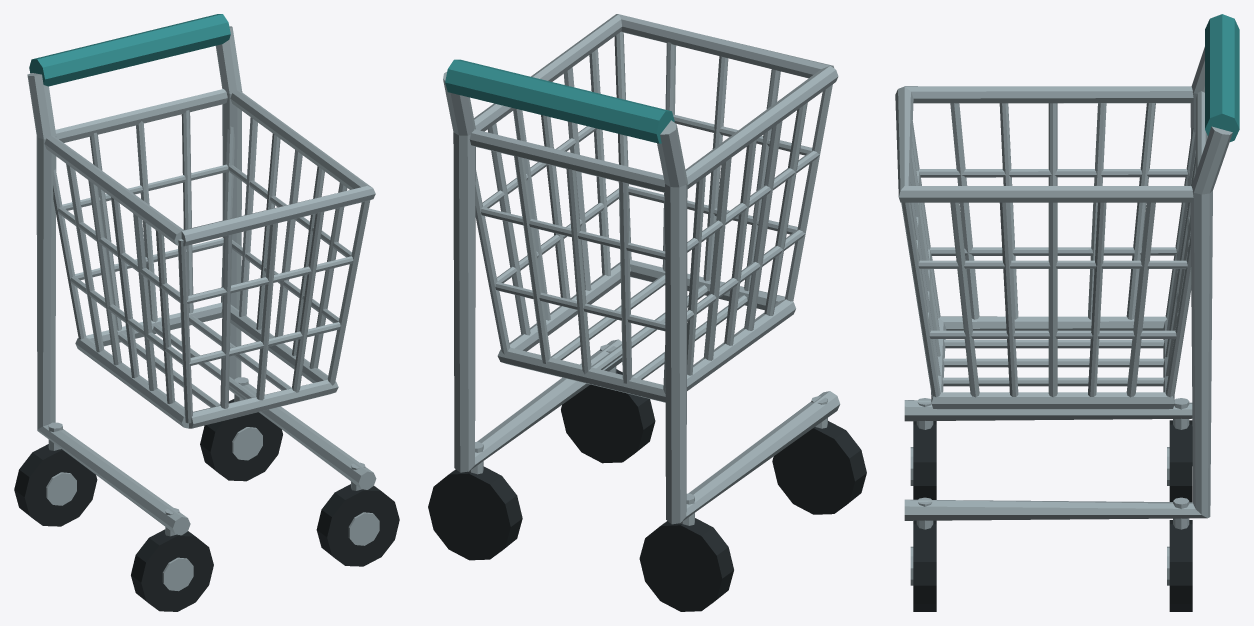
The model's file is Basket_Cart_Rolling.glb.
The picture shows the model from 3 angles, left to right: view 1: azimuth 30°, elevation 25°; view 2: azimuth 150°, elevation 25°; view 3: azimuth 270°, elevation 25°; orthographic projection. The views are drawn at different scales.
Visible parts, largest first — view 1: Basket_Cart_Rolling; view 2: Basket_Cart_Rolling; view 3: Basket_Cart_Rolling.
Boxes of the visible parts, x1,y1,x2,y2 form: Basket_Cart_Rolling: (14, 14, 399, 611); Basket_Cart_Rolling: (428, 14, 866, 611); Basket_Cart_Rolling: (895, 14, 1239, 611).
Bounding box in the file's own units: 0.64 × 1.06 × 0.672.
